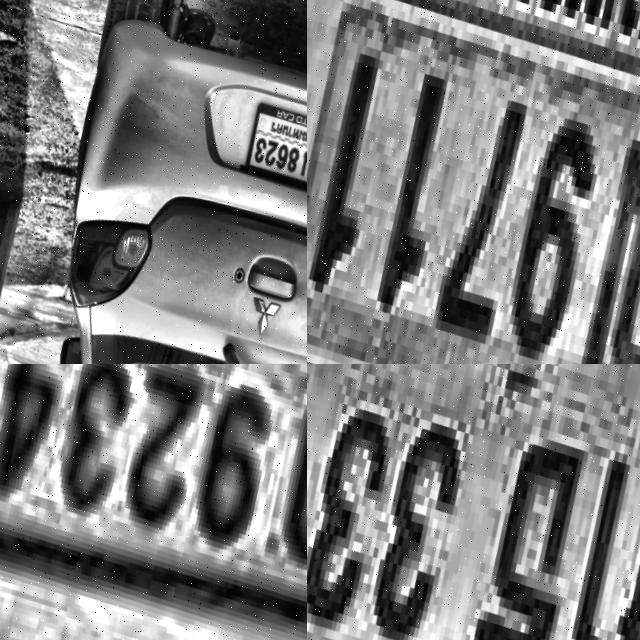license-plate: (307, 0, 640, 364), (307, 364, 640, 640), (0, 364, 307, 640), (234, 94, 307, 196)
